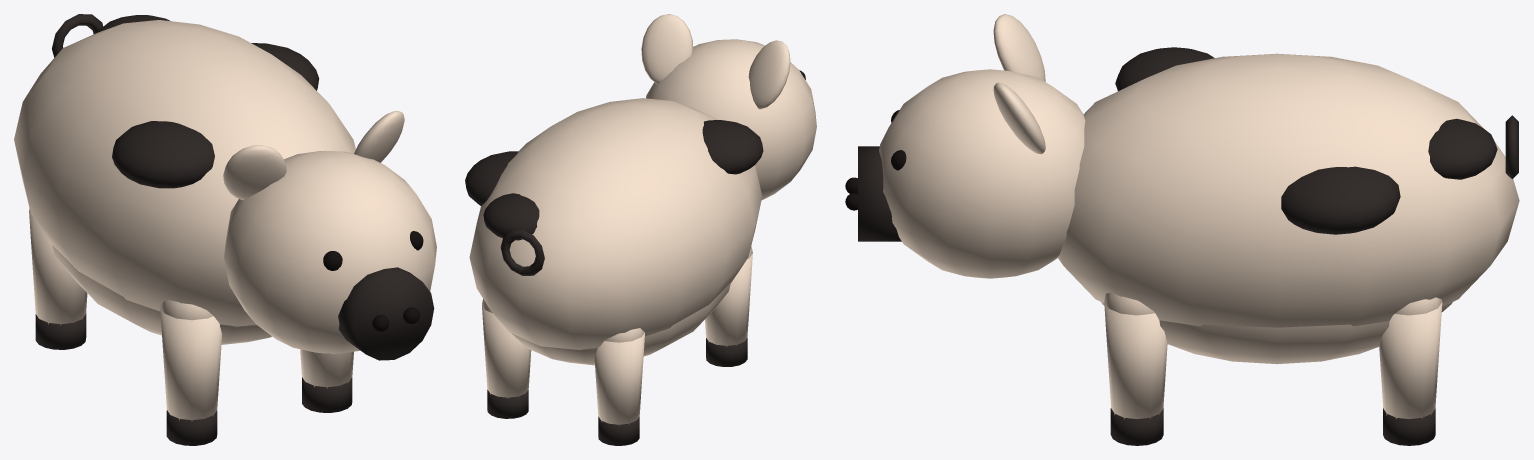
The model's file is pig_spot.glb.
The picture shows the model from 3 angles, left to right: view 1: azimuth 30°, elevation 25°; view 2: azimuth 150°, elevation 25°; view 3: azimuth 270°, elevation 25°; orthographic projection. The views are drawn at different scales.
Visible parts, largest first — view 1: Body, Head, LegFL, LegBL, LegFR; view 2: Body, Head, LegBL, LegBR, LegFL; view 3: Body, Head, LegFR, LegBR.
Boxes of the visible parts, left/top/right/bottom form: Body: left=14, top=14, right=355, bottom=344; Head: left=223, top=111, right=436, bottom=360; LegFL: left=160, top=300, right=222, bottom=445; LegBL: left=29, top=208, right=87, bottom=349; LegFR: left=300, top=349, right=353, bottom=412; Body: left=465, top=98, right=763, bottom=365; Head: left=641, top=14, right=816, bottom=200; LegBL: left=594, top=328, right=644, bottom=445; LegBR: left=482, top=299, right=531, bottom=418; LegFL: left=705, top=246, right=752, bottom=366; Body: left=1057, top=47, right=1519, bottom=364; Head: left=845, top=14, right=1085, bottom=278; LegFR: left=1104, top=293, right=1167, bottom=445; LegBR: left=1379, top=297, right=1442, bottom=445.
Size of the model in its own units: 0.46 by 0.5298 by 0.917.
